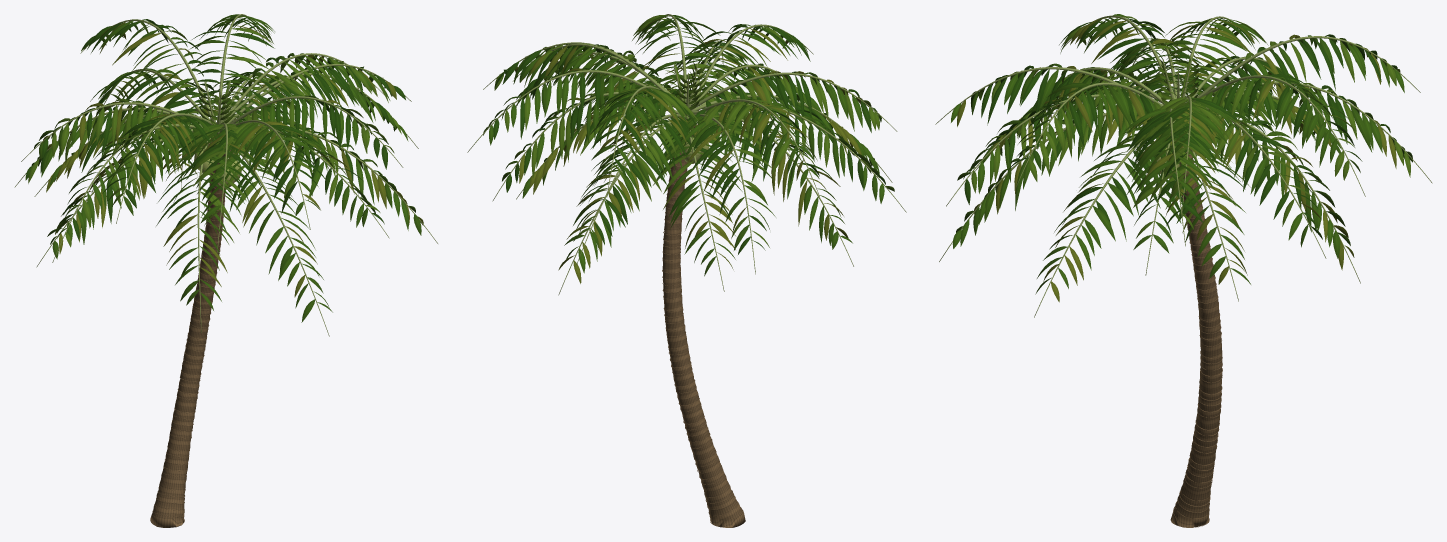
The model's file is Coconut.glb.
The picture shows the model from 3 angles, left to right: view 1: azimuth 30°, elevation 25°; view 2: azimuth 150°, elevation 25°; view 3: azimuth 270°, elevation 25°; orthographic projection. The views are drawn at different scales.
Visible parts, largest first — view 1: Coconut_Individual_Pinnae.005, Coconut_Trunk_GrowthScars.006, Coconut_Rachis_Crownshaft.006; view 2: Coconut_Individual_Pinnae.005, Coconut_Trunk_GrowthScars.006, Coconut_Rachis_Crownshaft.006; view 3: Coconut_Individual_Pinnae.005, Coconut_Trunk_GrowthScars.006, Coconut_Rachis_Crownshaft.006.
Part boxes in pixels (x1,y1,x2,y2): Coconut_Individual_Pinnae.005: [25, 14, 423, 322]; Coconut_Trunk_GrowthScars.006: [150, 140, 230, 527]; Coconut_Rachis_Crownshaft.006: [14, 14, 437, 336]; Coconut_Individual_Pinnae.005: [483, 15, 894, 283]; Coconut_Trunk_GrowthScars.006: [662, 117, 745, 527]; Coconut_Rachis_Crownshaft.006: [467, 14, 906, 295]; Coconut_Individual_Pinnae.005: [951, 14, 1412, 302]; Coconut_Trunk_GrowthScars.006: [1170, 153, 1222, 527]; Coconut_Rachis_Crownshaft.006: [935, 15, 1432, 317].
Size of the model in its own units: 9.31 by 10.31 by 9.22.
4 materials, 2 textured.
